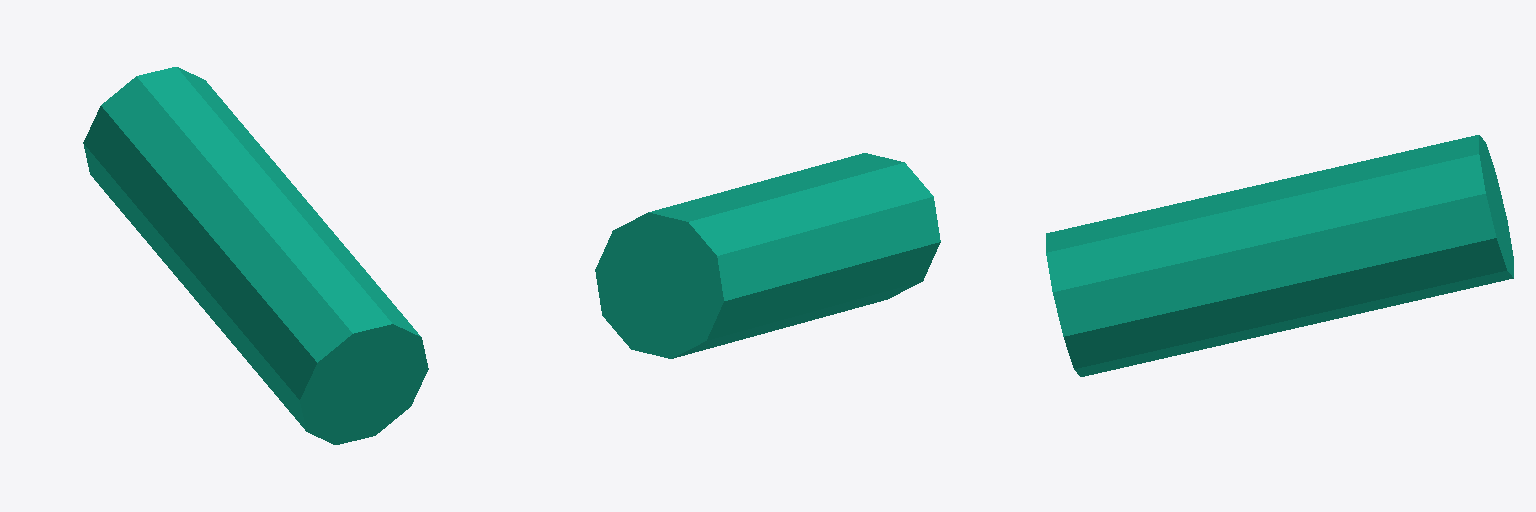
Rendered from tirador.obj.
The picture shows the model from 3 angles: view 1: azimuth 30°, elevation 25°; view 2: azimuth 150°, elevation 25°; view 3: azimuth 270°, elevation 25°; orthographic projection.
Parts seen in each view (by area): view 1: Cylinder001; view 2: Cylinder001; view 3: Cylinder001.
Boxes of the visible parts, <box> form: Cylinder001: <box>83,67,428,444</box>; Cylinder001: <box>595,153,940,358</box>; Cylinder001: <box>1046,135,1513,376</box>.
Bounding box in the file's own units: 1 × 1.66 × 3.14.